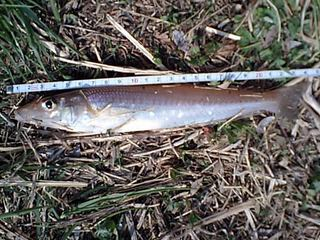kiss: (16, 82, 311, 132)
